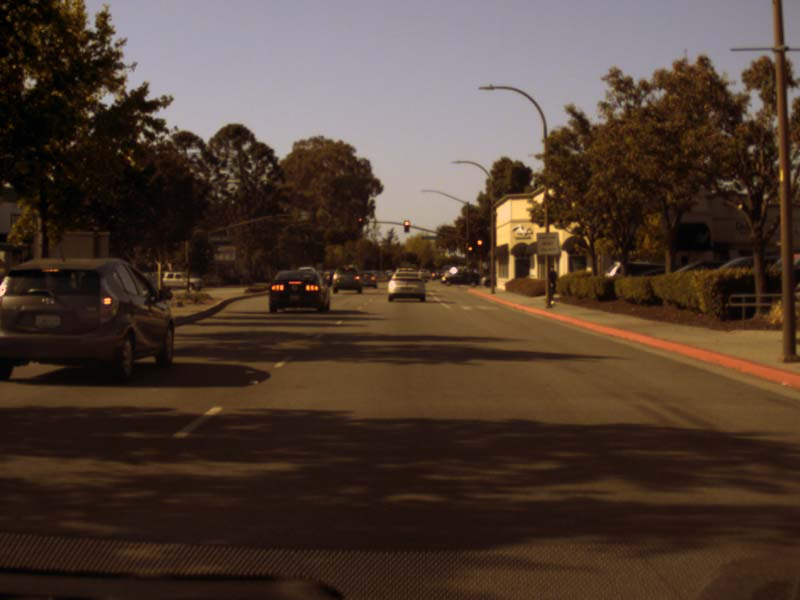Red: (476, 236, 484, 255), (356, 215, 363, 228), (403, 220, 410, 233)
Yellow: (467, 243, 473, 256)
